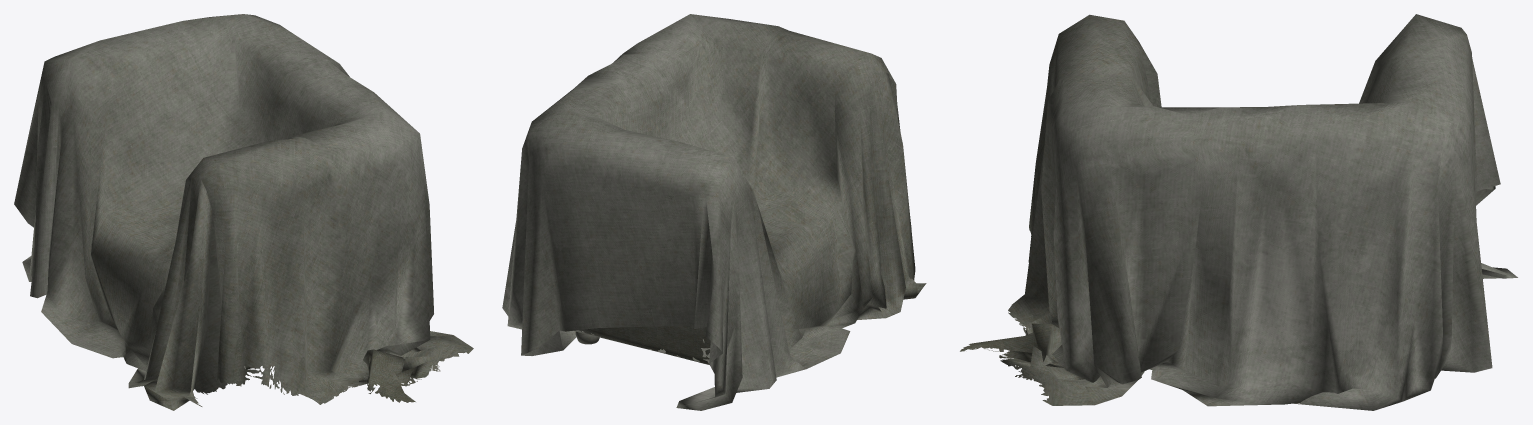
File: ChesterfiledCover.fbx
The picture shows the model from 3 angles, left to right: view 1: azimuth 30°, elevation 25°; view 2: azimuth 150°, elevation 25°; view 3: azimuth 270°, elevation 25°; orthographic projection. The views are drawn at different scales.
Visible parts, largest first — view 1: SM_ChesterfieldChairCover_LOD0; view 2: SM_ChesterfieldChairCover_LOD0; view 3: SM_ChesterfieldChairCover_LOD0.
Boxes of the visible parts, box(x1,y1,x2,y2) form: SM_ChesterfieldChairCover_LOD0: box(14, 14, 473, 410); SM_ChesterfieldChairCover_LOD0: box(502, 14, 926, 410); SM_ChesterfieldChairCover_LOD0: box(960, 14, 1517, 410).
Size of the model in its own units: 148 by 110 by 208.
